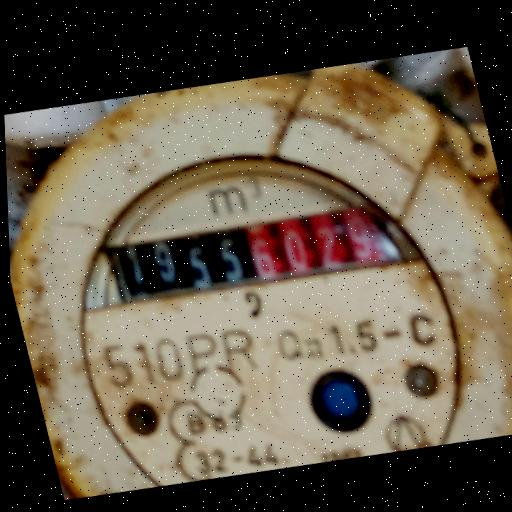0: (275, 218, 314, 278)
1: (119, 241, 155, 298)
2: (310, 215, 346, 274)
5: (208, 228, 250, 291), (177, 234, 217, 295)
6: (242, 222, 281, 284)
9: (145, 237, 184, 294), (341, 209, 378, 268)
border_water_meter_number: (100, 185, 392, 323)
